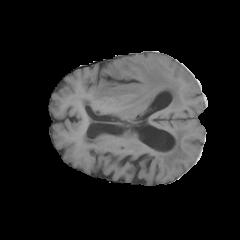glioma: (78, 58, 190, 169)
